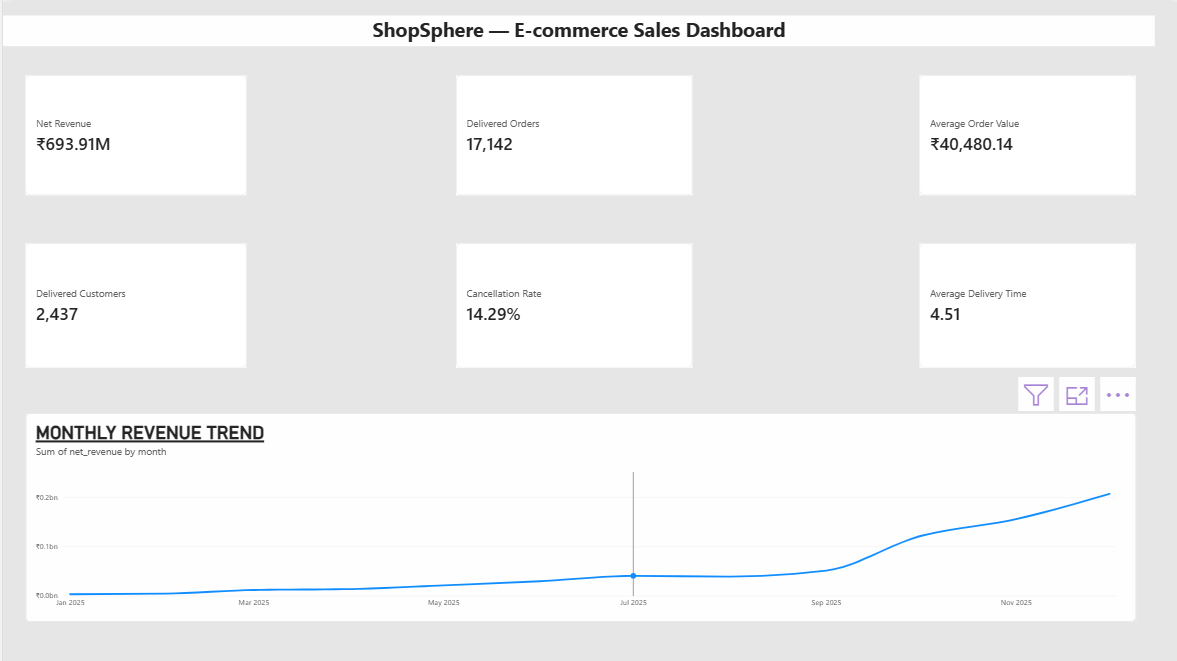

The dashboard page shown, as its layout file describes it:
{"tool":"powerbi","page":{"name":"Page 1","canvas":[1920,1080],"ordinal":0},"visuals":[{"type":"lineChart","title":"MONTHLY REVENUE TREND","fields":{"Category":["monthly_sales.month"],"Y":["Sum(monthly_sales.net_revenue)"]},"box":[37.5,670,1810,340],"z":0},{"type":"cardVisual","fields":{"Data":["Sum(monthly_sales.net_revenue)","Sum(monthly_sales.net_revenue)"]},"box":[37.5,120,360,195],"z":1},{"type":"cardVisual","fields":{"Data":["orders.Delivered Orders Display"]},"box":[737.5,120,385,195],"z":4},{"type":"cardVisual","fields":{"Data":["measure.Average Order Value Display"]},"box":[1495,120,352.5,195],"z":6},{"type":"cardVisual","fields":{"Data":["measure.Delivered Customers Display"]},"box":[37.5,392.5,360,202.5],"z":7},{"type":"cardVisual","fields":{"Data":["measure.Cancellation Rate"]},"box":[737.5,392.5,385,202.5],"z":8},{"type":"cardVisual","fields":{"Data":["measure.Average Delivery Time"]},"box":[1495,392.5,352.5,202.5],"z":9},{"type":"textbox","box":[0,22.5,1877.5,50],"z":10}]}

Visuals, with their boxes in screenshot pixels (x1, y1, x2, y2), scaled from the page's 1920x1080 canvas onto the 1177x661 screenshot:
"MONTHLY REVENUE TREND" lineChart: <box>23,410,1133,618</box>
cardVisual - Sum(monthly_sales.net_revenue) x Sum(monthly_sales.net_revenue): <box>23,73,244,193</box>
cardVisual - orders.Delivered Orders Display: <box>452,73,688,193</box>
cardVisual - measure.Average Order Value Display: <box>916,73,1133,193</box>
cardVisual - measure.Delivered Customers Display: <box>23,240,244,364</box>
cardVisual - measure.Cancellation Rate: <box>452,240,688,364</box>
cardVisual - measure.Average Delivery Time: <box>916,240,1133,364</box>
textbox: <box>0,14,1151,44</box>
